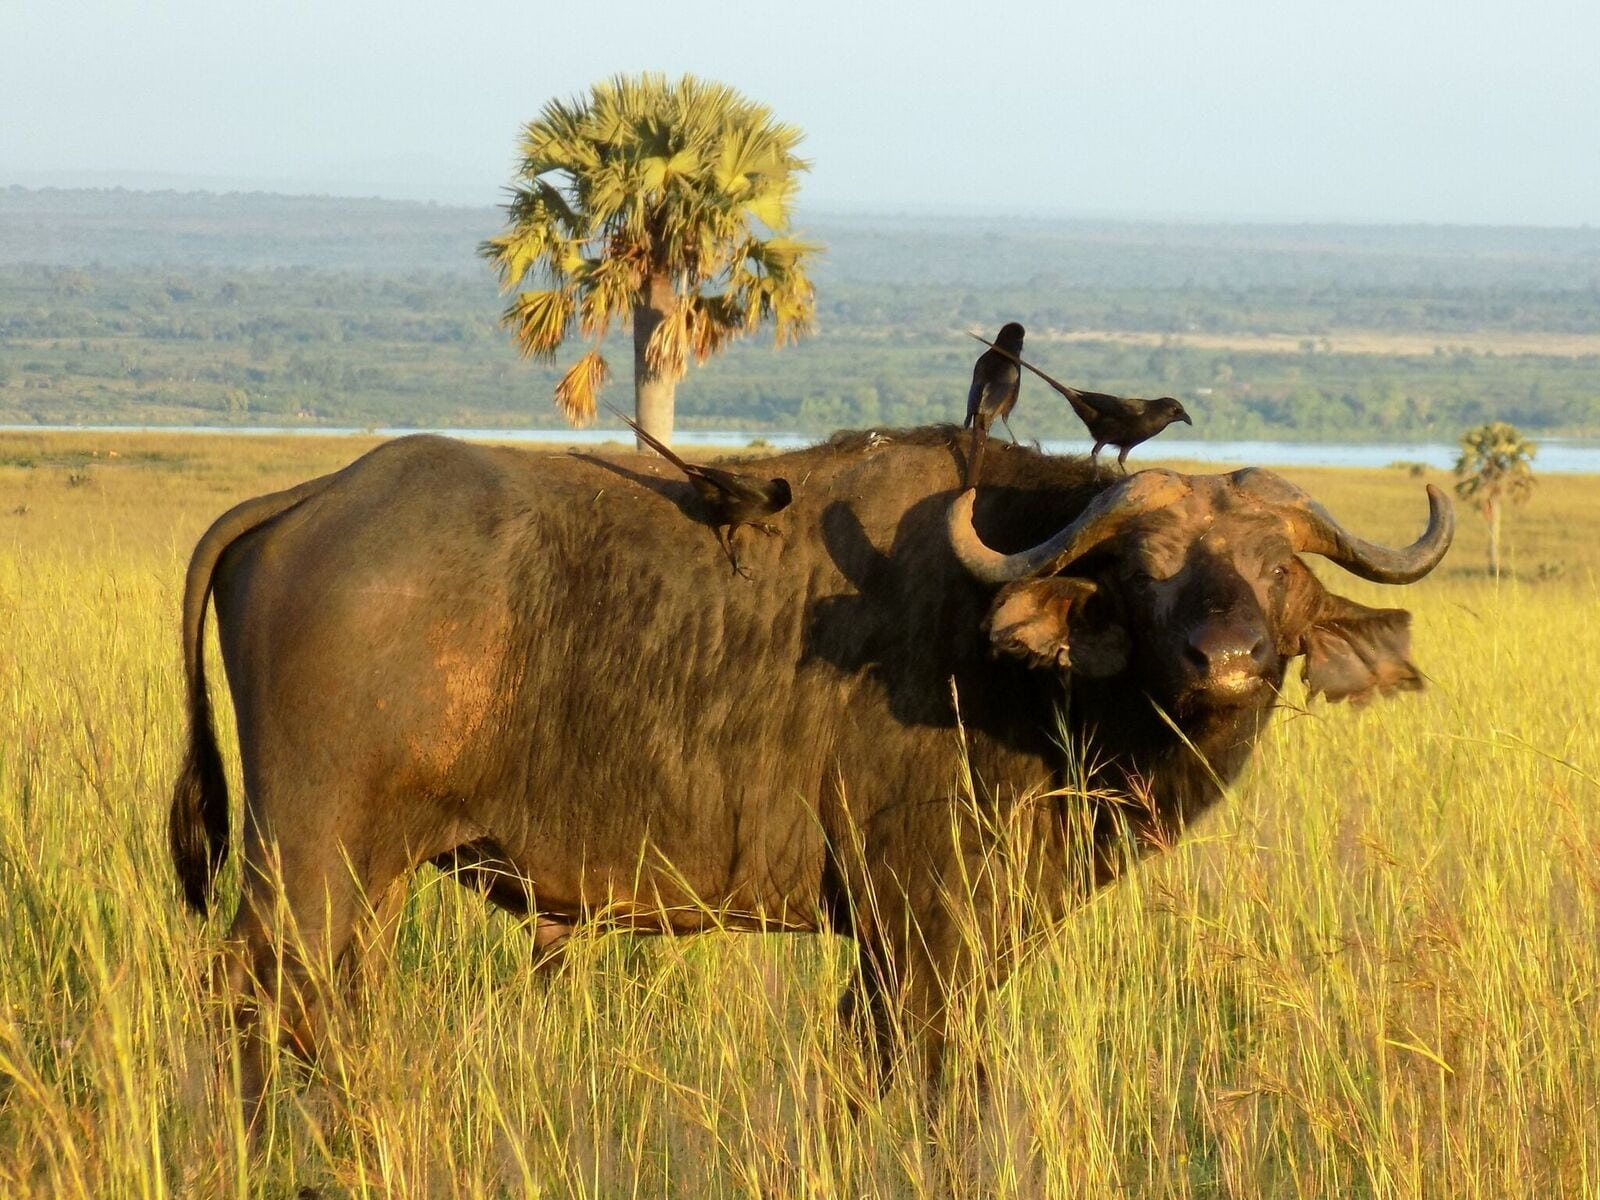buffalo: (170, 421, 1460, 1136)
